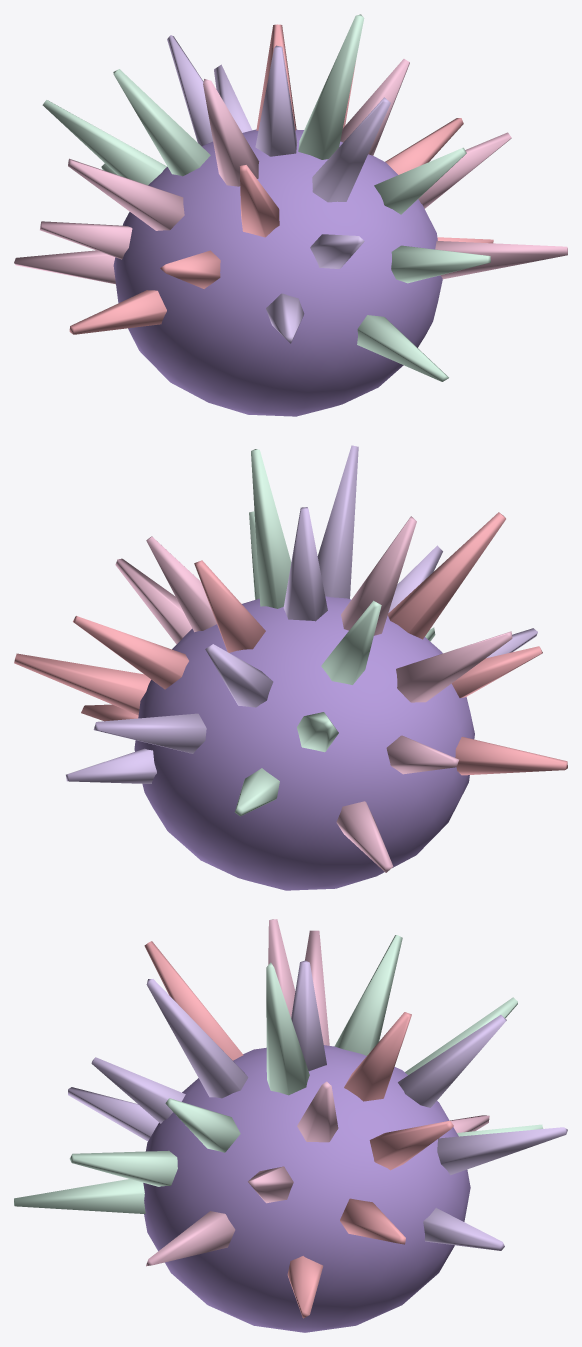
The model's file is urchin_story.glb.
3 views of the same model, one above another, from view 1: azimuth 30°, elevation 25°; view 2: azimuth 150°, elevation 25°; view 3: azimuth 270°, elevation 25° (orthographic). The views are drawn at different scales.
Parts seen in each view (by area): view 1: urchin_story_mesh; view 2: urchin_story_mesh; view 3: urchin_story_mesh.
Part boxes in pixels (bbox=[...]): urchin_story_mesh: bbox=[14, 14, 567, 416]; urchin_story_mesh: bbox=[14, 445, 567, 890]; urchin_story_mesh: bbox=[14, 919, 567, 1332].
Bounding box in the file's own units: 2.97 × 2.34 × 3.08.
